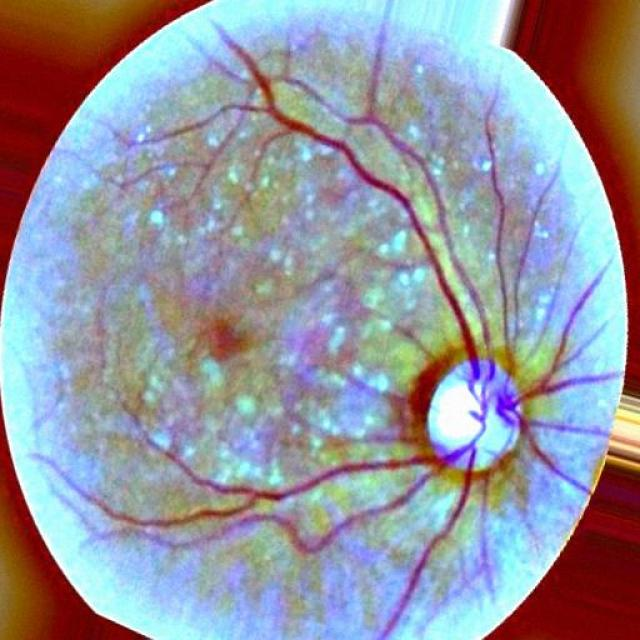Macula: (197, 314, 249, 365)
Nerves: (264, 108, 479, 371), (121, 440, 468, 551), (379, 451, 478, 639)
Optic Disk: (427, 356, 531, 474)
